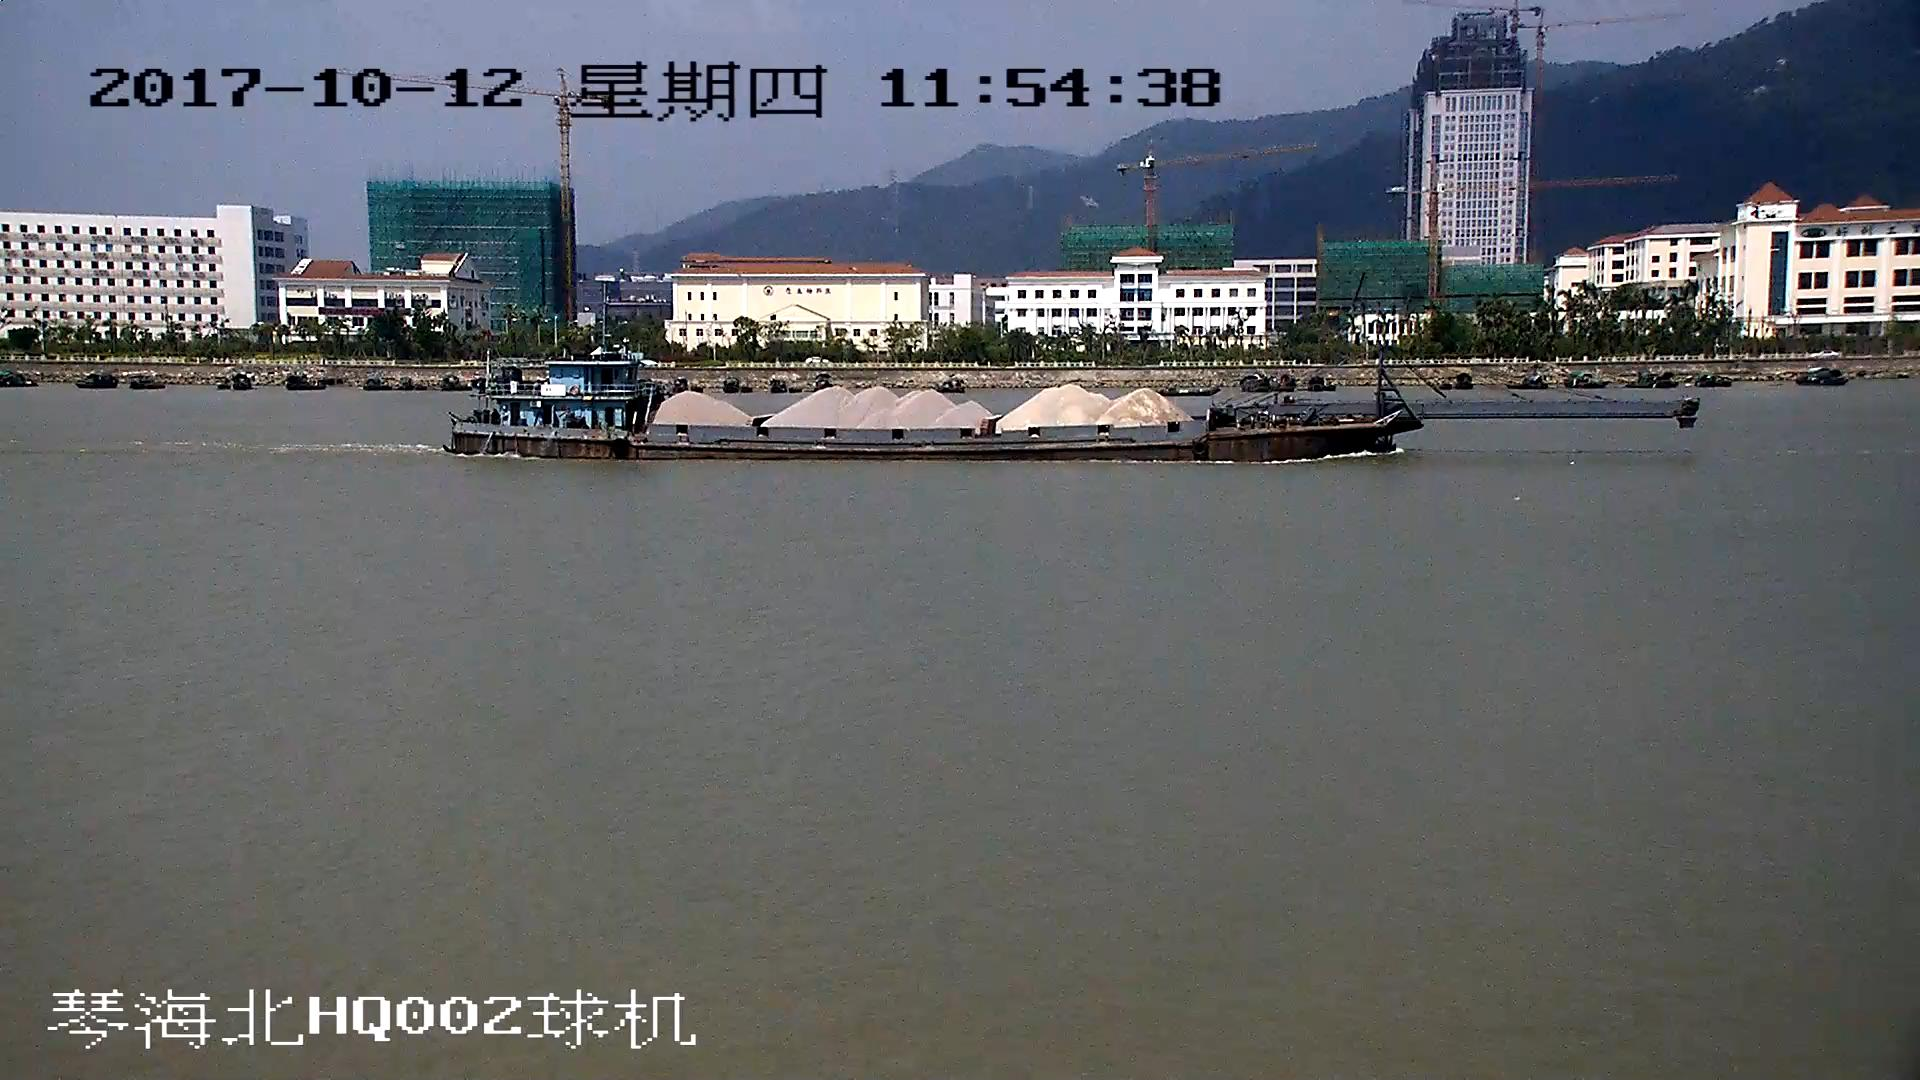ore carrier: (455, 337, 1700, 464)
